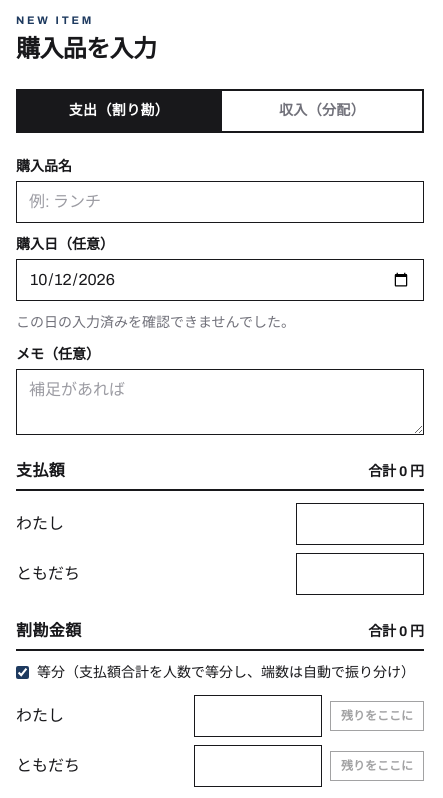
Test: 等分 ON 中に支払額を変更すると割勘が再追従する
Type "1000" into the number field named "わたし の支払額". click: [360, 524]
box: left=296, top=502, right=424, bottom=544
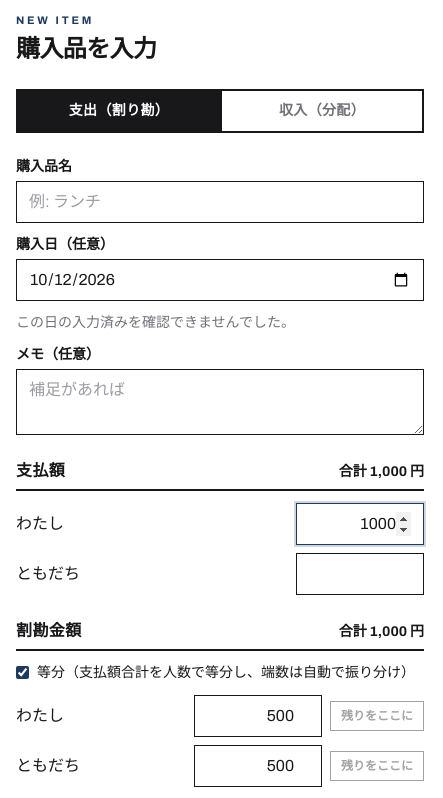
Now the number field named "わたし の割勘金額" holds "500", box left=194, top=694, right=322, bottom=736
Note: 等分 ON のまま支払額を 2000 へ変更 → 1000/1000 に追従する（effect ではなくイベントで再計算）。
Replace the text in the number field named "わたし の支払額" with "2000". click: [360, 524]
box: left=296, top=502, right=424, bottom=544
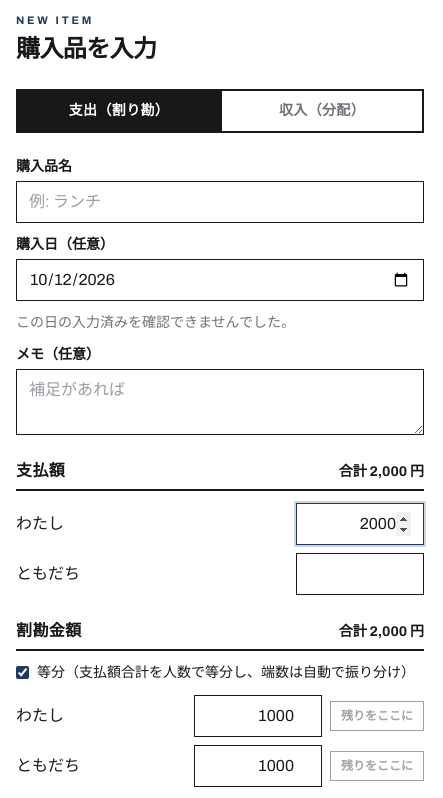
Now the number field named "わたし の割勘金額" holds "1000", box left=194, top=694, right=322, bottom=736
Now the number field named "ともだち の割勘金額" holds "1000", box left=194, top=744, right=322, bottom=786
